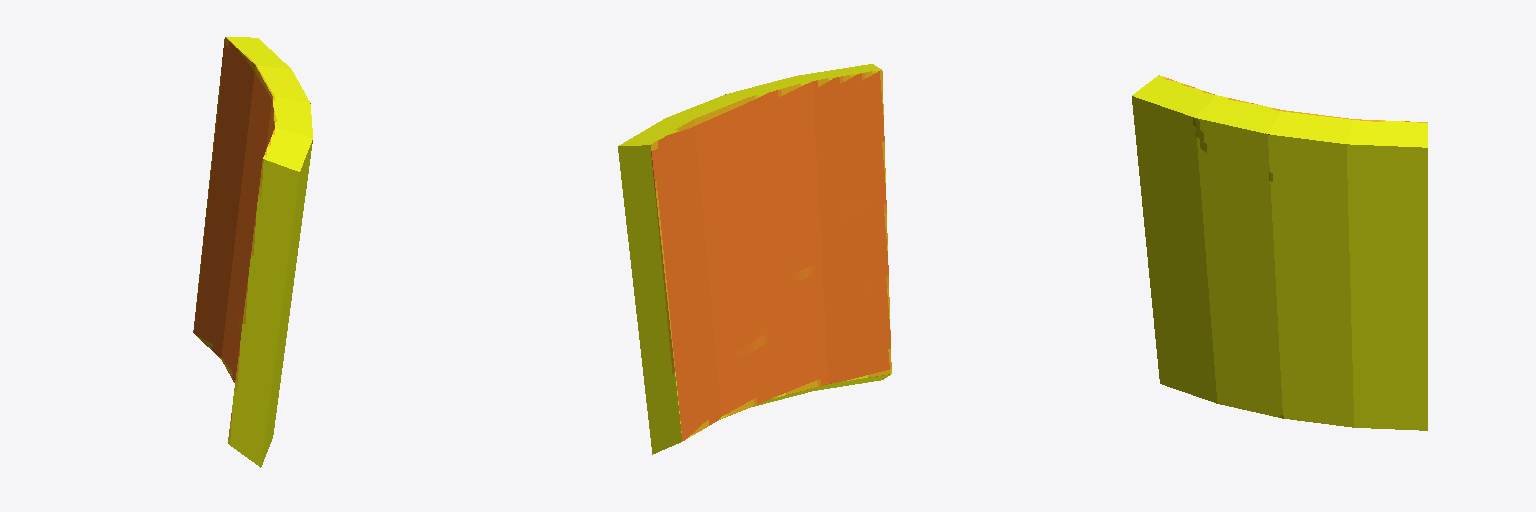
3 renders of one model, left to right at view 1: azimuth 30°, elevation 25°; view 2: azimuth 150°, elevation 25°; view 3: azimuth 270°, elevation 25°, orthographic.
Parts seen in each view (by area): view 1: Level_2_5_Cylinder.032; view 2: Level_2_5_Cylinder.032; view 3: Level_2_5_Cylinder.032.
Boxes of the visible parts, x1=… form: Level_2_5_Cylinder.032: x1=193, y1=37, x2=312, y2=467; Level_2_5_Cylinder.032: x1=618, y1=64, x2=891, y2=454; Level_2_5_Cylinder.032: x1=1132, y1=75, x2=1427, y2=430.
Bounding box in the file's own units: 0.9886 × 1.92 × 1.67.
1 materials, 1 textured.